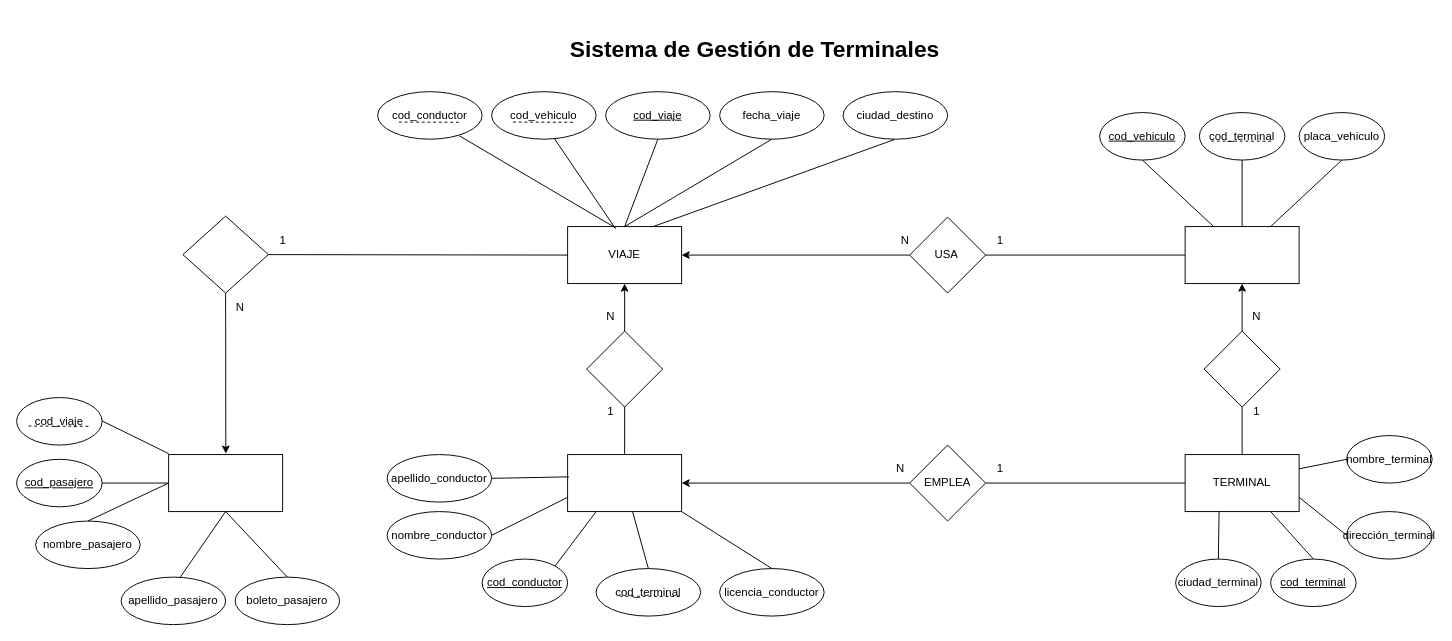
The diagram is 1452 pixels wide and 641 high, and some of its shapes have lost their labels. The box of each missing label's shape, as (x1, y1, x2, y2) in pixels:
CONDUCTOR: (567, 454, 682, 512)
PASAJEROS: (168, 454, 283, 512)
REALIZA: (586, 330, 663, 407)
TIENE: (1203, 330, 1280, 407)
TRANSPORTA: (182, 215, 268, 293)
VEHICULO: (1184, 226, 1299, 284)
